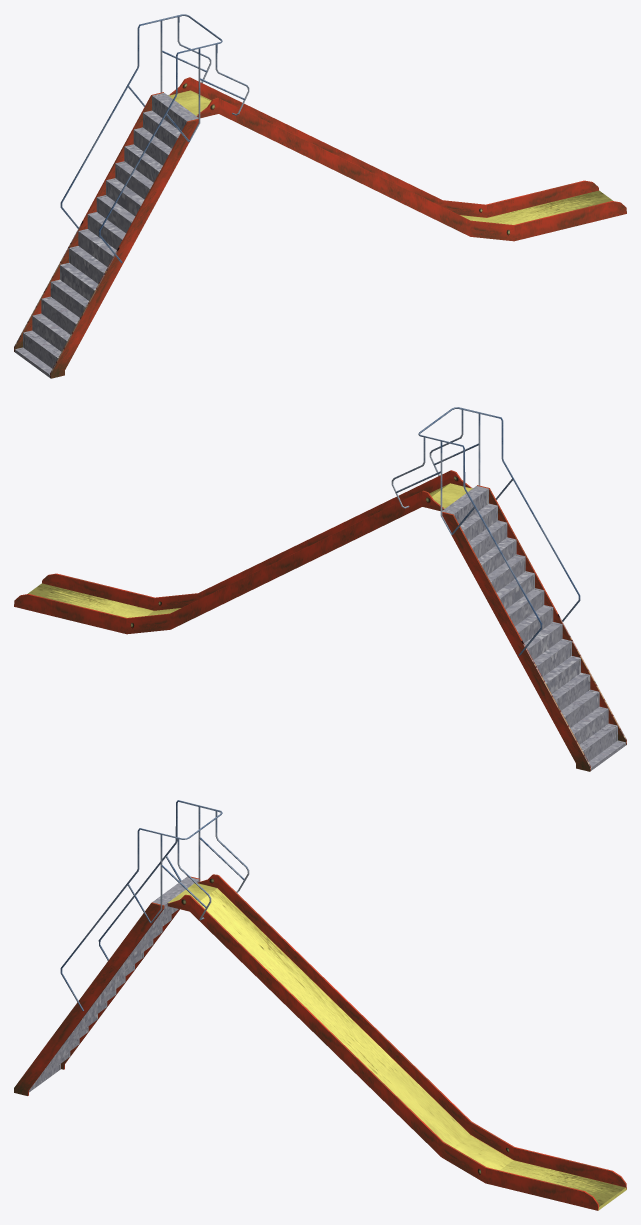
File: Model_Slide_02.fbx
3 renders of one model, top to bottom at view 1: azimuth 30°, elevation 25°; view 2: azimuth 150°, elevation 25°; view 3: azimuth 330°, elevation 25°, orthographic.
Parts seen in each view (by area): view 1: Slide2; view 2: Slide2; view 3: Slide2.
Part boxes in pixels (x1=…): Slide2: x1=14, y1=14, x2=626, y2=378; Slide2: x1=14, y1=407, x2=626, y2=771; Slide2: x1=14, y1=800, x2=626, y2=1210.
Size of the model in its own units: 919 by 448 by 107.
